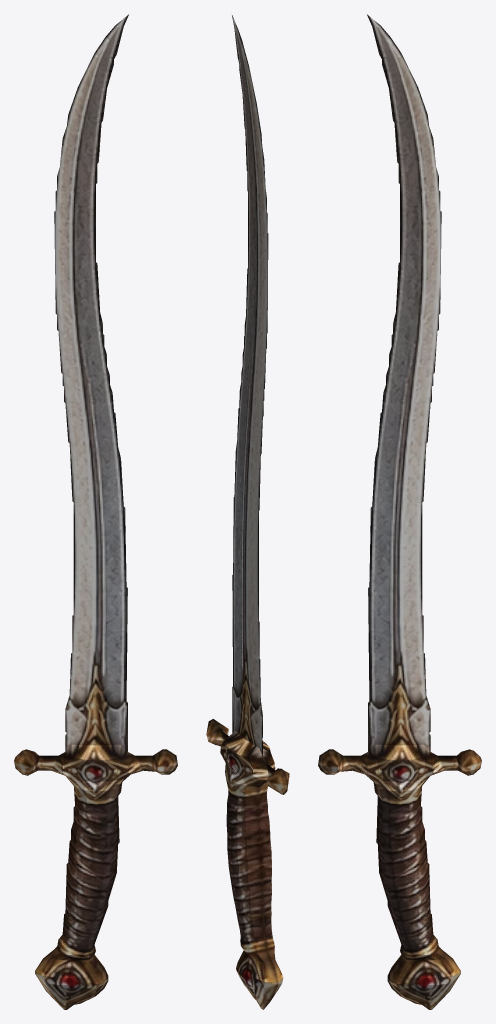
Rendered from sword-light.glb.
The picture shows the model from 3 angles, left to right: view 1: azimuth 90°, elevation 25°; view 2: azimuth 210°, elevation 25°; view 3: azimuth 270°, elevation 25°; orthographic projection. The views are drawn at different scales.
Visible parts, largest first — view 1: sword-light; view 2: sword-light; view 3: sword-light.
Part boxes in pixels (x1=…): sword-light: x1=14, y1=14, x2=177, y2=1009; sword-light: x1=206, y1=15, x2=289, y2=1009; sword-light: x1=318, y1=14, x2=481, y2=1009.
Bounding box in the file's own units: 0.0397 × 1 × 0.1492.
Materials: 1 (1 with a texture image).
